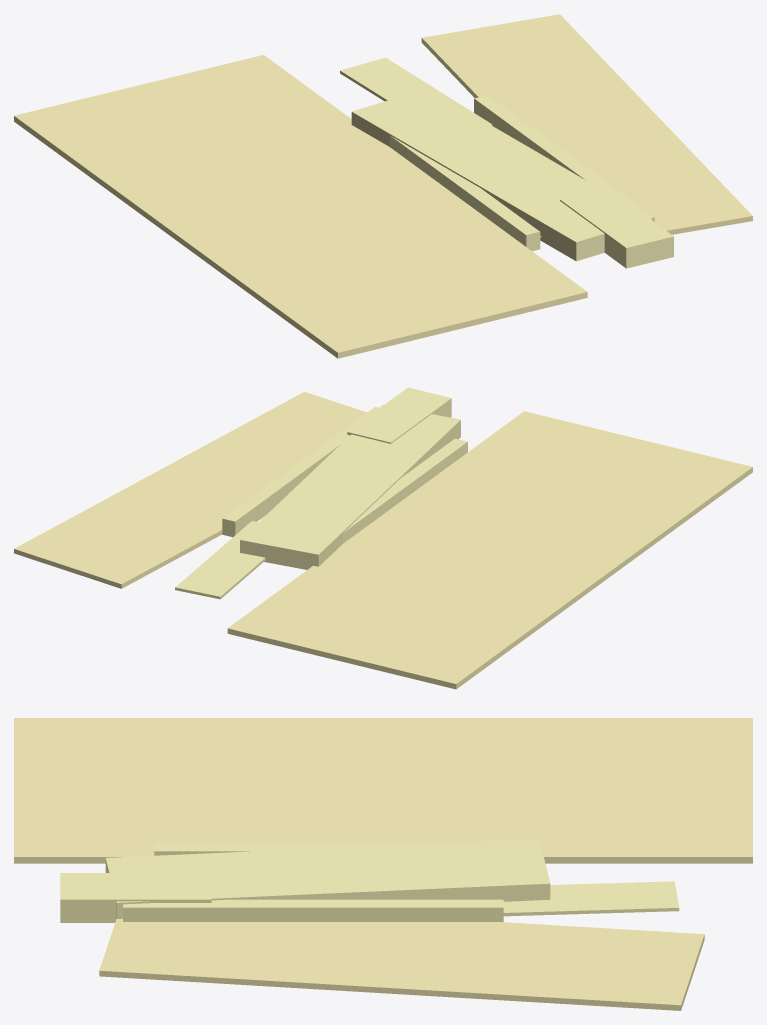
The model's file is road_floating_bus_stop_island.glb.
3 views of the same model, one above another, from view 1: azimuth 30°, elevation 25°; view 2: azimuth 150°, elevation 25°; view 3: azimuth 270°, elevation 25° (orthographic). The views are drawn at different scales.
Parts seen in each view (by area): view 1: through_lane, bypass_lane, boarding_island, island_nose, inner_curb, outer_curb, shelter_pad; view 2: through_lane, bypass_lane, boarding_island, island_nose, outer_curb, shelter_pad, inner_curb; view 3: through_lane, bypass_lane, boarding_island, outer_curb, island_nose, shelter_pad, inner_curb.
Boxes of the visible parts, bbox=[...] form: through_lane: bbox=[14, 55, 587, 358]; bypass_lane: bbox=[421, 14, 752, 234]; boarding_island: bbox=[351, 88, 652, 261]; island_nose: bbox=[560, 188, 673, 268]; inner_curb: bbox=[389, 135, 540, 251]; outer_curb: bbox=[474, 95, 654, 221]; shelter_pad: bbox=[340, 57, 492, 125]; through_lane: bbox=[227, 411, 752, 689]; bypass_lane: bbox=[14, 392, 366, 588]; boarding_island: bbox=[240, 404, 460, 569]; island_nose: bbox=[347, 387, 451, 443]; outer_curb: bbox=[222, 406, 378, 537]; shelter_pad: bbox=[175, 521, 265, 599]; inner_curb: bbox=[342, 438, 467, 543]; through_lane: bbox=[14, 718, 752, 863]; bypass_lane: bbox=[99, 918, 704, 1010]; boarding_island: bbox=[105, 838, 550, 918]; outer_curb: bbox=[123, 899, 503, 922]; island_nose: bbox=[60, 873, 211, 922]; shelter_pad: bbox=[503, 881, 679, 916]; inner_curb: bbox=[154, 843, 422, 855].
Bounding box in the file's own units: 3.67 × 0.14 × 4.
